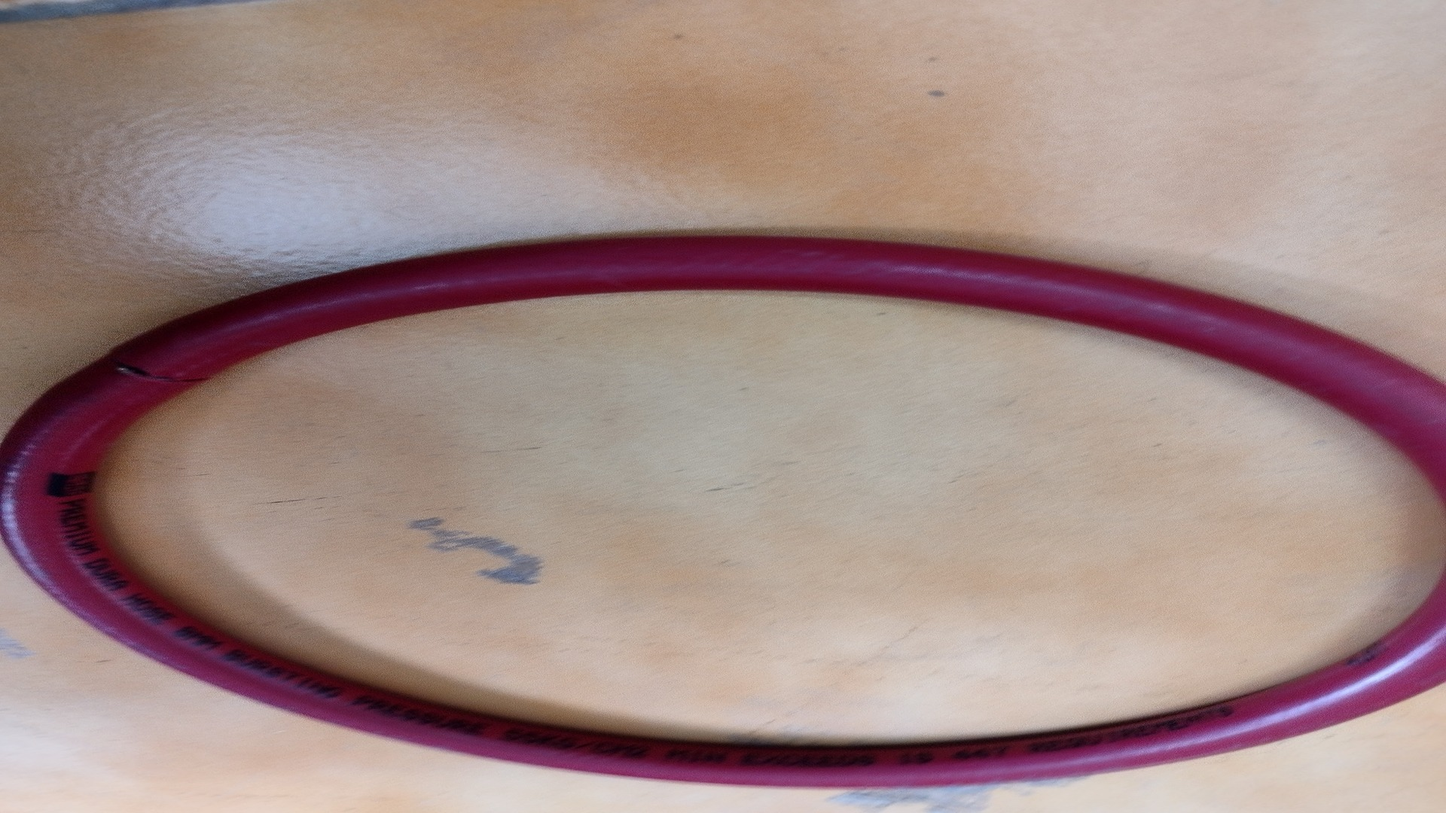Red ring: (8, 242, 1446, 788)
